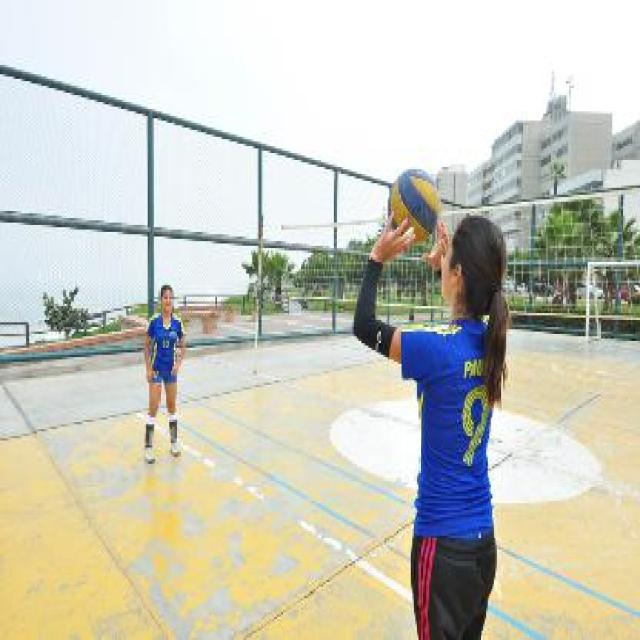Volleyball: (386, 168, 438, 243)
